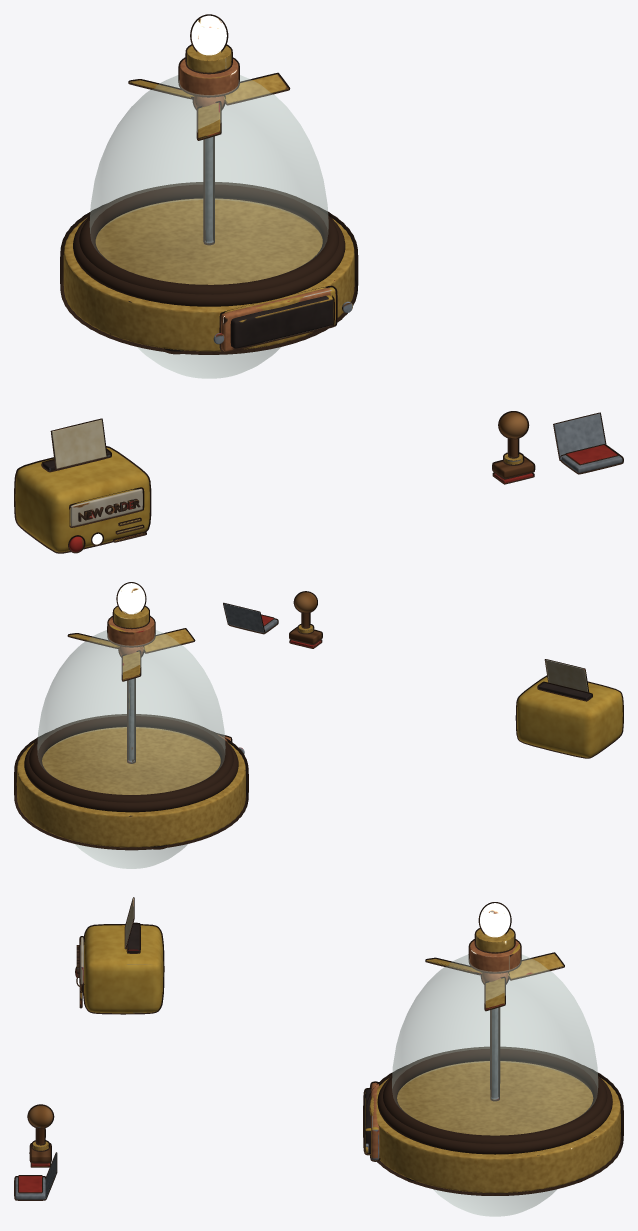
The model's file is Lab_Work.fbx.
3 views of the same model, one above another, from view 1: azimuth 30°, elevation 25°; view 2: azimuth 150°, elevation 25°; view 3: azimuth 270°, elevation 25° (orthographic). The views are drawn at different scales.
Visible parts, largest first — view 1: Item_Turbine_Glass, Item_Turbine, Item_Turbine_Outline, Item_OrderPrinter, Item_InkPad, Item_TurbineRotor, Item_OrderPrinter_Outline, Item_Stamp, Item_TurbineRotor_Outline; view 2: Item_Turbine_Glass, Item_Turbine, Item_Turbine_Outline, Item_OrderPrinter, Item_TurbineRotor, Item_Stamp, Item_InkPad, Item_OrderPrinter_Outline, Item_TurbineRotor_Outline, Item_Stamp_Outline; view 3: Item_Turbine_Glass, Item_Turbine, Item_Turbine_Outline, Item_OrderPrinter, Item_TurbineRotor, Item_Stamp, Item_InkPad, Item_OrderPrinter_Outline, Item_TurbineRotor_Outline.
Part boxes in pixels (x1,y1,x2,y2): Item_Turbine_Glass: (89, 75, 328, 378); Item_Turbine: (63, 15, 354, 351); Item_Turbine_Outline: (60, 14, 358, 354); Item_OrderPrinter: (15, 419, 149, 552); Item_InkPad: (554, 413, 622, 472); Item_TurbineRotor: (129, 74, 288, 139); Item_OrderPrinter_Outline: (14, 418, 151, 553); Item_Stamp: (493, 412, 533, 483); Item_TurbineRotor_Outline: (128, 72, 290, 140); Item_Turbine_Glass: (37, 630, 225, 868); Item_Turbine: (16, 583, 245, 847); Item_Turbine_Outline: (14, 582, 248, 850); Item_OrderPrinter: (517, 659, 622, 757); Item_TurbineRotor: (69, 629, 193, 680); Item_Stamp: (290, 592, 321, 647); Item_InkPad: (223, 603, 277, 633); Item_OrderPrinter_Outline: (515, 659, 623, 758); Item_TurbineRotor_Outline: (67, 628, 195, 681); Item_Stamp_Outline: (289, 591, 322, 648); Item_Turbine_Glass: (392, 954, 598, 1216); Item_Turbine: (364, 903, 620, 1192); Item_Turbine_Outline: (363, 902, 623, 1195); Item_OrderPrinter: (76, 898, 163, 1013); Item_TurbineRotor: (426, 953, 563, 1009); Item_Stamp: (28, 1105, 52, 1166); Item_InkPad: (15, 1153, 56, 1199); Item_OrderPrinter_Outline: (75, 897, 164, 1014); Item_TurbineRotor_Outline: (425, 952, 564, 1011).
Bounding box in the file's own units: 5.13 × 3.27 × 5.91.
